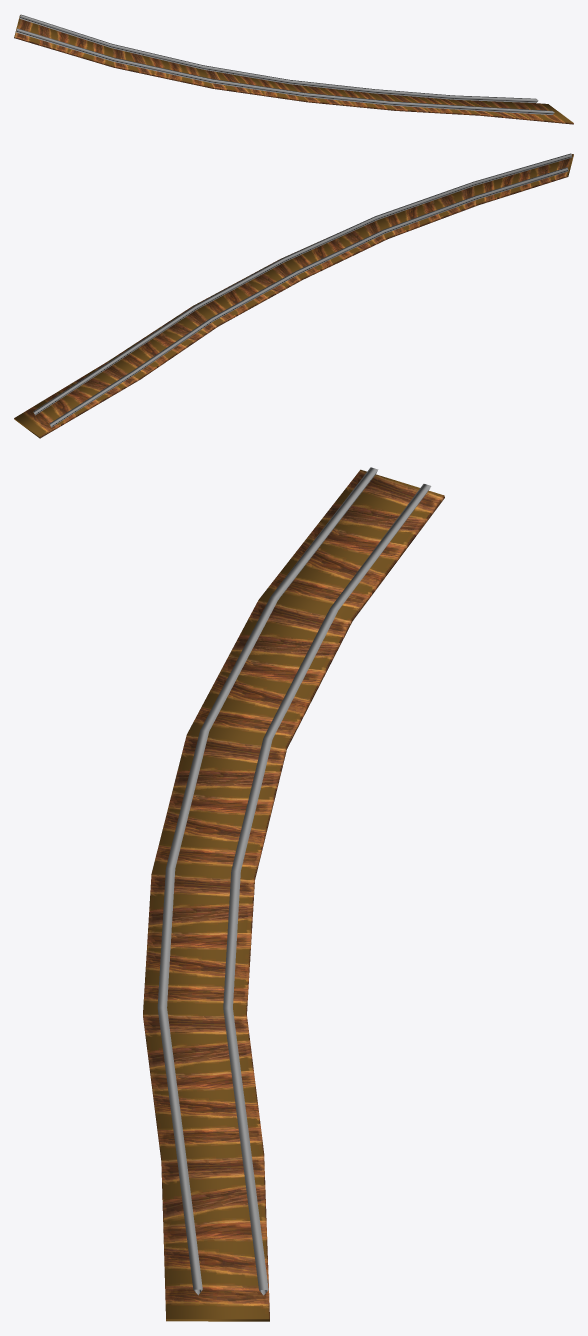
The model's file is SWORDLIGHT20_MAIN1RAILS1NE.fbx.
3 renders of one model, top to bottom at view 1: azimuth 30°, elevation 25°; view 2: azimuth 210°, elevation 25°; view 3: azimuth 270°, elevation 25°, orthographic. The views are drawn at different scales.
Visible parts, largest first — view 1: SWORDLIGHT20_MAIN1RAILS1NE; view 2: SWORDLIGHT20_MAIN1RAILS1NE; view 3: SWORDLIGHT20_MAIN1RAILS1NE.
Boxes of the visible parts, x1,y1,x2,y2 form: SWORDLIGHT20_MAIN1RAILS1NE: [14, 14, 573, 124]; SWORDLIGHT20_MAIN1RAILS1NE: [14, 153, 573, 438]; SWORDLIGHT20_MAIN1RAILS1NE: [143, 467, 444, 1321].
Size of the model in its own units: 184666 by 62196 by 47218.
Materials: 2 (2 with a texture image).
